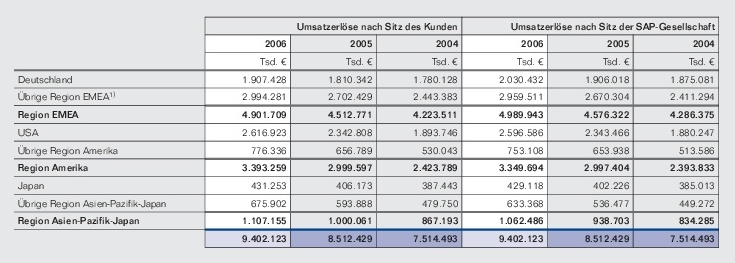table: (0, 0, 735, 263)
